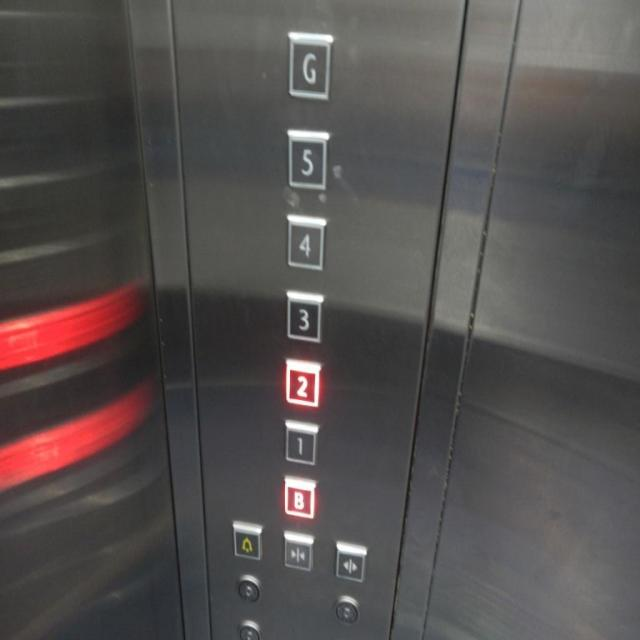1: (283, 416, 318, 466)
2: (282, 356, 320, 407)
3: (284, 285, 324, 344)
4: (286, 211, 328, 272)
5: (287, 128, 331, 191)
B: (282, 474, 316, 520)
G: (287, 30, 334, 101)
alarm: (231, 518, 264, 562)
close: (280, 530, 316, 572)
open: (332, 537, 368, 585)
